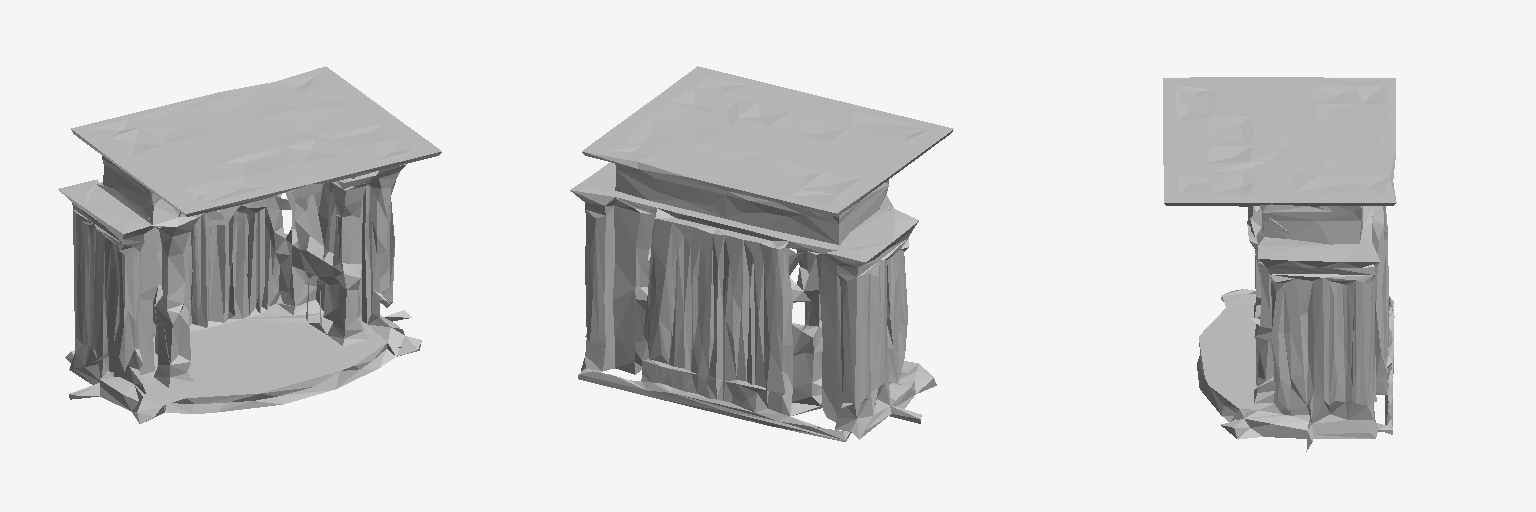
File: Meshy_AI_a_large_victorian_era_0131214810_texture.obj
3 views of the same model, side by side, from view 1: azimuth 30°, elevation 25°; view 2: azimuth 150°, elevation 25°; view 3: azimuth 270°, elevation 25° (orthographic).
Visible parts, largest first — view 1: Meshy_AI_a_large_victorian_era_[number redacted]_texture; view 2: Meshy_AI_a_large_victorian_era_[number redacted]_texture; view 3: Meshy_AI_a_large_victorian_era_[number redacted]_texture.
Boxes of the visible parts, x1=… form: Meshy_AI_a_large_victorian_era_[number redacted]_texture: x1=58, y1=66, x2=441, y2=423; Meshy_AI_a_large_victorian_era_[number redacted]_texture: x1=570, y1=66, x2=953, y2=441; Meshy_AI_a_large_victorian_era_[number redacted]_texture: x1=1163, y1=77, x2=1396, y2=451.
Size of the model in its own units: 2.01 by 1.31 by 1.19.